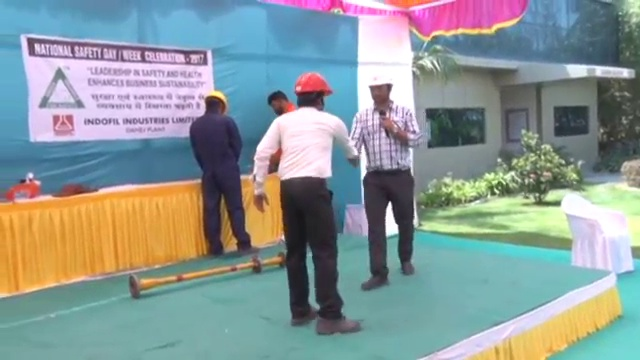helmet: (292, 69, 337, 97), (365, 68, 396, 89), (204, 89, 228, 112)
helmet_off: (266, 90, 290, 118)
helmet_on: (291, 69, 337, 114), (364, 66, 398, 110), (203, 87, 230, 118)
person: (251, 69, 361, 337), (348, 67, 423, 291), (188, 86, 259, 254)
